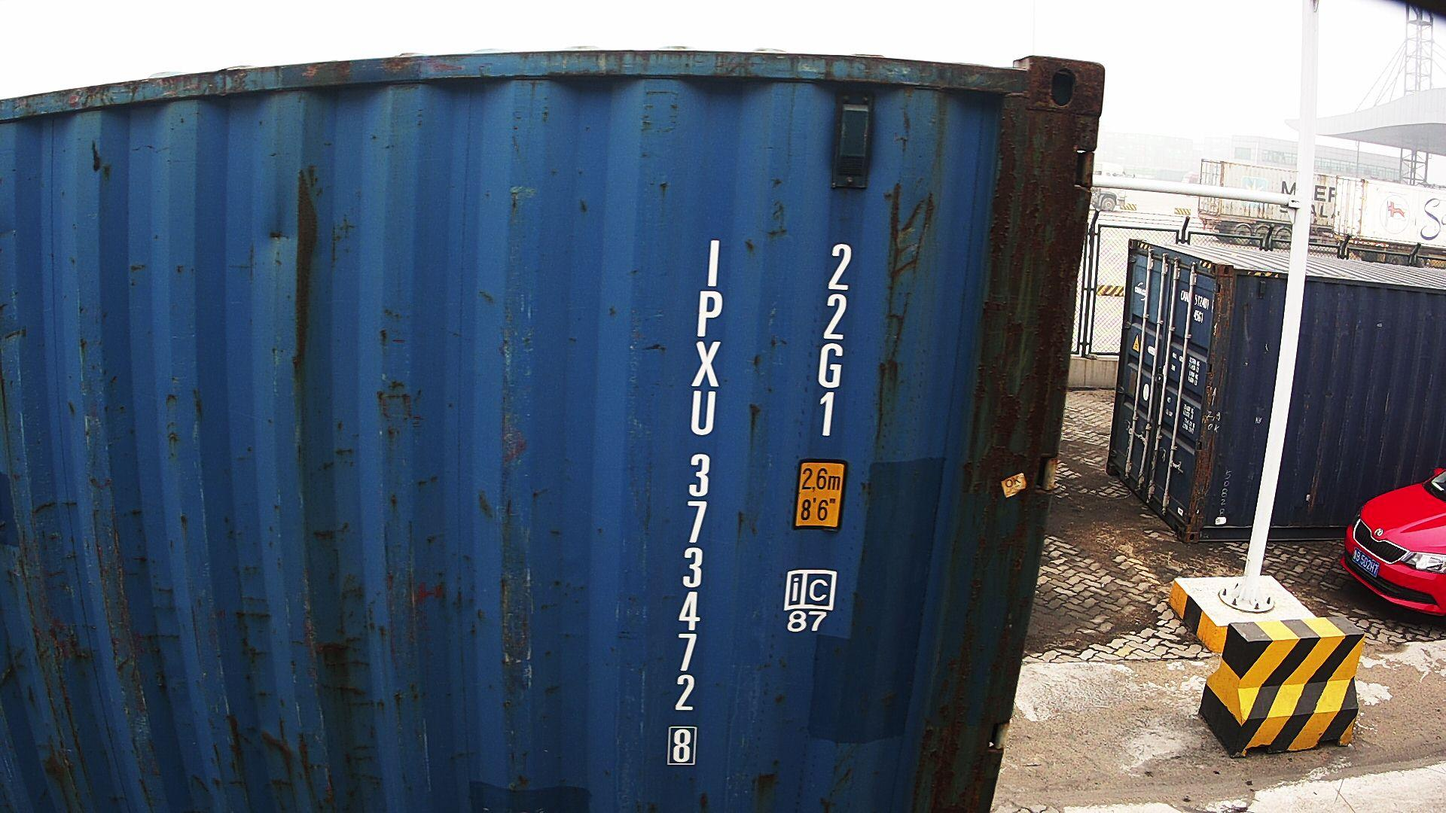container-numbers: (663, 233, 728, 772), (805, 239, 858, 443)
